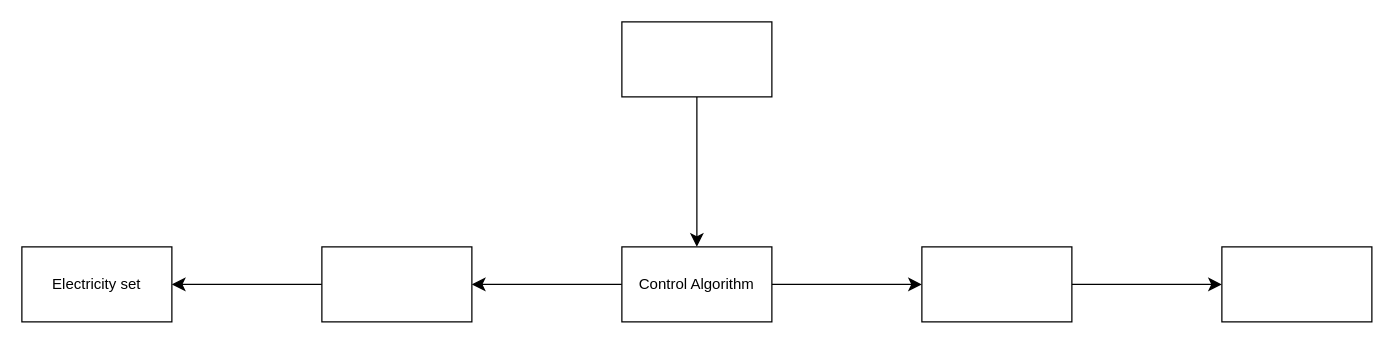
This 1394x344 diagram has some shape labels left out. Here are the shapes that lost their labels. From the top down, the centre of each, then its label:
At [696,59]: "Wind Power System".
At [396,284]: "Control Systrm".
